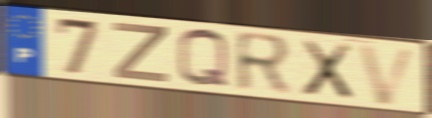7: (54, 15, 103, 76)
Q: (174, 27, 233, 91)
R: (233, 29, 296, 98)
V: (355, 42, 421, 107)
X: (298, 38, 355, 101)
Z: (112, 20, 172, 85)
